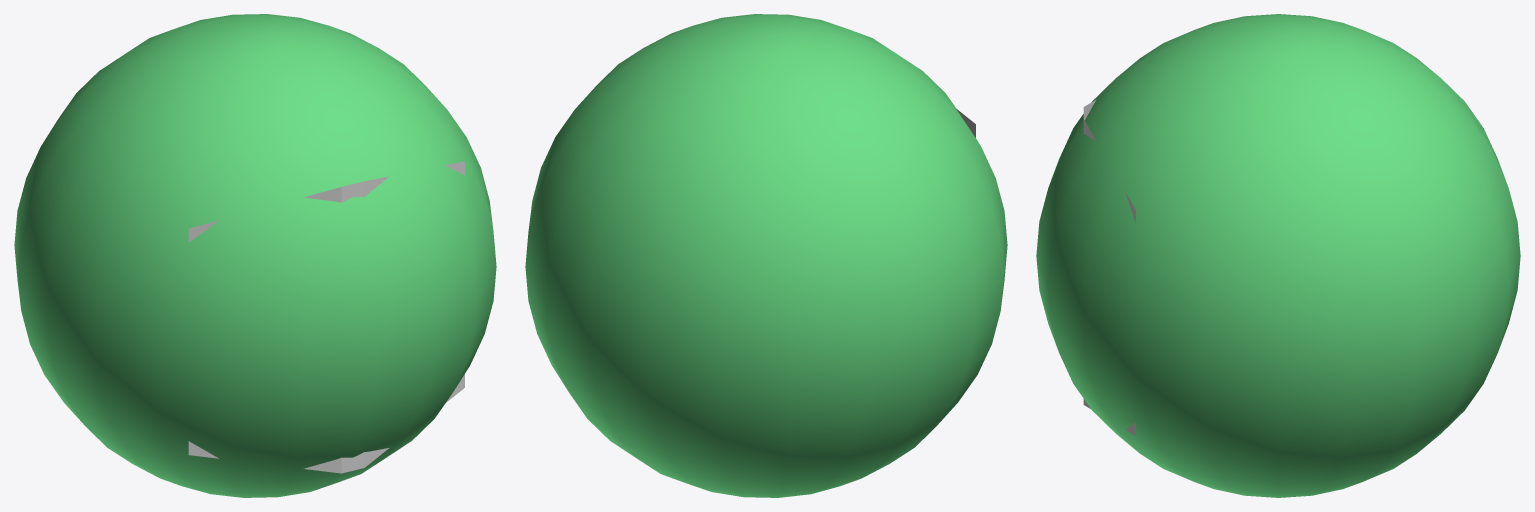
Rendered from testmesh4.fbx.
The picture shows the model from 3 angles, left to right: view 1: azimuth 30°, elevation 25°; view 2: azimuth 150°, elevation 25°; view 3: azimuth 270°, elevation 25°; orthographic projection.
Visible parts, largest first — view 1: bodymesh, eyemesh; view 2: bodymesh; view 3: bodymesh.
Boxes of the visible parts, left/top/right/bottom form: bodymesh: left=14, top=14, right=496, bottom=497; eyemesh: left=188, top=161, right=464, bottom=473; bodymesh: left=525, top=14, right=1007, bottom=497; bodymesh: left=1036, top=14, right=1520, bottom=497.
Bounding box in the file's own units: 12.44 × 12.44 × 12.44.
